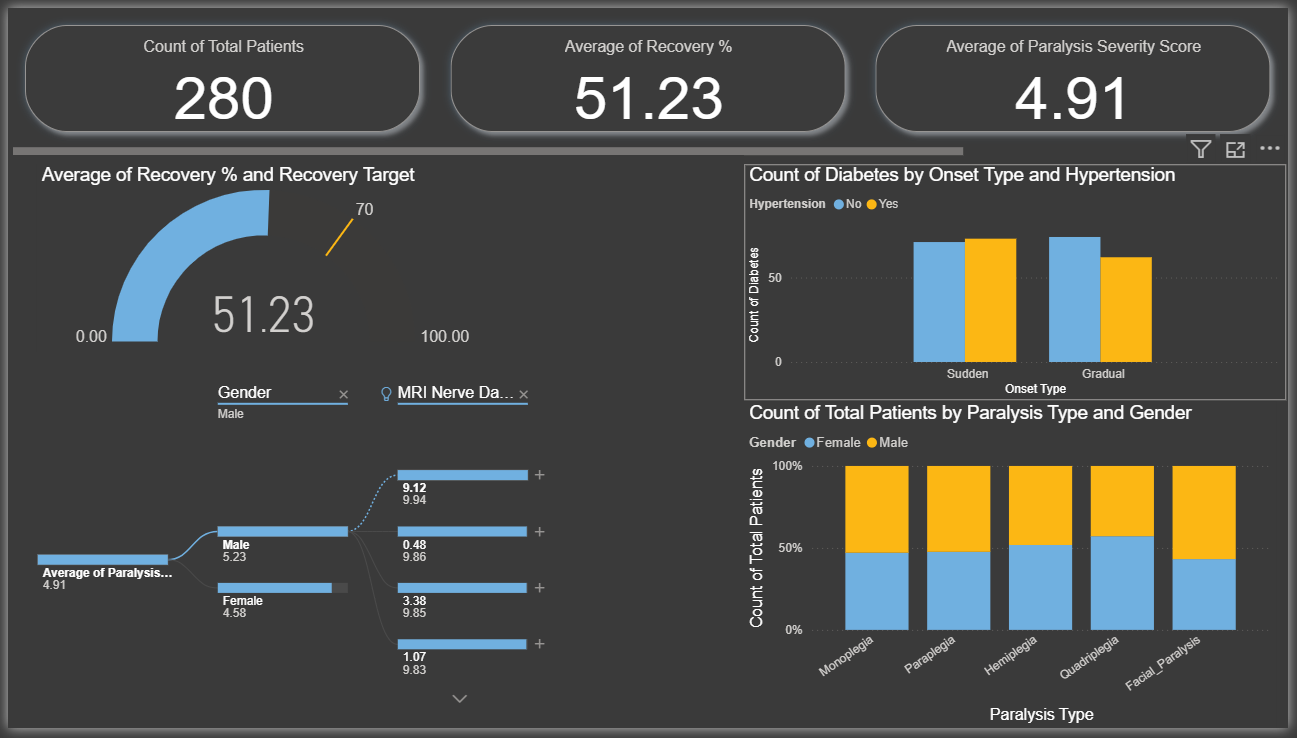

This screenshot's page, from the dashboard's own definition file:
{"tool":"powerbi","page":{"name":"Overview","canvas":[1280,720],"ordinal":1},"visuals":[{"type":"cardVisual","fields":{"Data":["CountNonNull(Paralysis Recovery Intelligence Dashboard.Patient_ID)","Avg(Paralysis Recovery Intelligence Dashboard.Recovery_Progress_Percent)","Avg(Paralysis Recovery Intelligence Dashboard.Paralysis_Severity_Score)","Avg(Paralysis Recovery Intelligence Dashboard.MRI_Nerve_Damage_Score)"]},"box":[0,0,1280,154.4],"z":0},{"type":"gauge","fields":{"Y":["Avg(Paralysis Recovery Intelligence Dashboard.Recovery_Progress_Percent)"],"TargetValue":["Paralysis Recovery Intelligence Dashboard.Recovery Target"]},"box":[28.1,156.2,471.9,187.5],"z":1000},{"type":"hundredPercentStackedColumnChart","fields":{"Category":["Paralysis Recovery Intelligence Dashboard.Paralysis_Type"],"Y":["CountNonNull(Paralysis Recovery Intelligence Dashboard.Total Patients)"],"Series":["Paralysis Recovery Intelligence Dashboard.Gender"]},"box":[736.7,393.3,530.8,326.7],"z":2000},{"type":"decompositionTreeVisual","fields":{"Analyze":["Avg(Paralysis Recovery Intelligence Dashboard.Paralysis_Severity_Score)"],"ExplainBy":["Paralysis Recovery Intelligence Dashboard.Gender","Paralysis Recovery Intelligence Dashboard.MRI_Nerve_Damage_Score","Paralysis Recovery Intelligence Dashboard.Age","Paralysis Recovery Intelligence Dashboard.Duration_Months"]},"box":[0,359.5,737.1,359.5],"z":3000},{"type":"clusteredColumnChart","fields":{"Y":["CountNonNull(Paralysis Recovery Intelligence Dashboard.Diabetes)"],"Series":["Paralysis Recovery Intelligence Dashboard.Hypertension"],"Category":["Paralysis Recovery Intelligence Dashboard.Onset_Type"]},"box":[736.5,155.8,540.4,236.5],"z":4000}]}

Visuals, with their boxes in screenshot pixels (x1, y1, x2, y2), scaled from the page's 1280x720 canvas onto the 1297x738 screenshot:
cardVisual - CountNonNull(Paralysis Recovery Intelligence Dashboard.Patient_ID) x Avg(Paralysis Recovery Intelligence Dashboard.Recovery_Progress_Percent): 0,0,1296,158
gauge - Avg(Paralysis Recovery Intelligence Dashboard.Recovery_Progress_Percent) x Paralysis Recovery Intelligence Dashboard.Recovery Target: 28,160,507,352
hundredPercentStackedColumnChart - Paralysis Recovery Intelligence Dashboard.Paralysis_Type x CountNonNull(Paralysis Recovery Intelligence Dashboard.Total Patients): 746,403,1284,737
decompositionTreeVisual - Avg(Paralysis Recovery Intelligence Dashboard.Paralysis_Severity_Score) x Paralysis Recovery Intelligence Dashboard.Gender: 0,368,747,737
clusteredColumnChart - CountNonNull(Paralysis Recovery Intelligence Dashboard.Diabetes) x Paralysis Recovery Intelligence Dashboard.Hypertension: 746,160,1294,402
